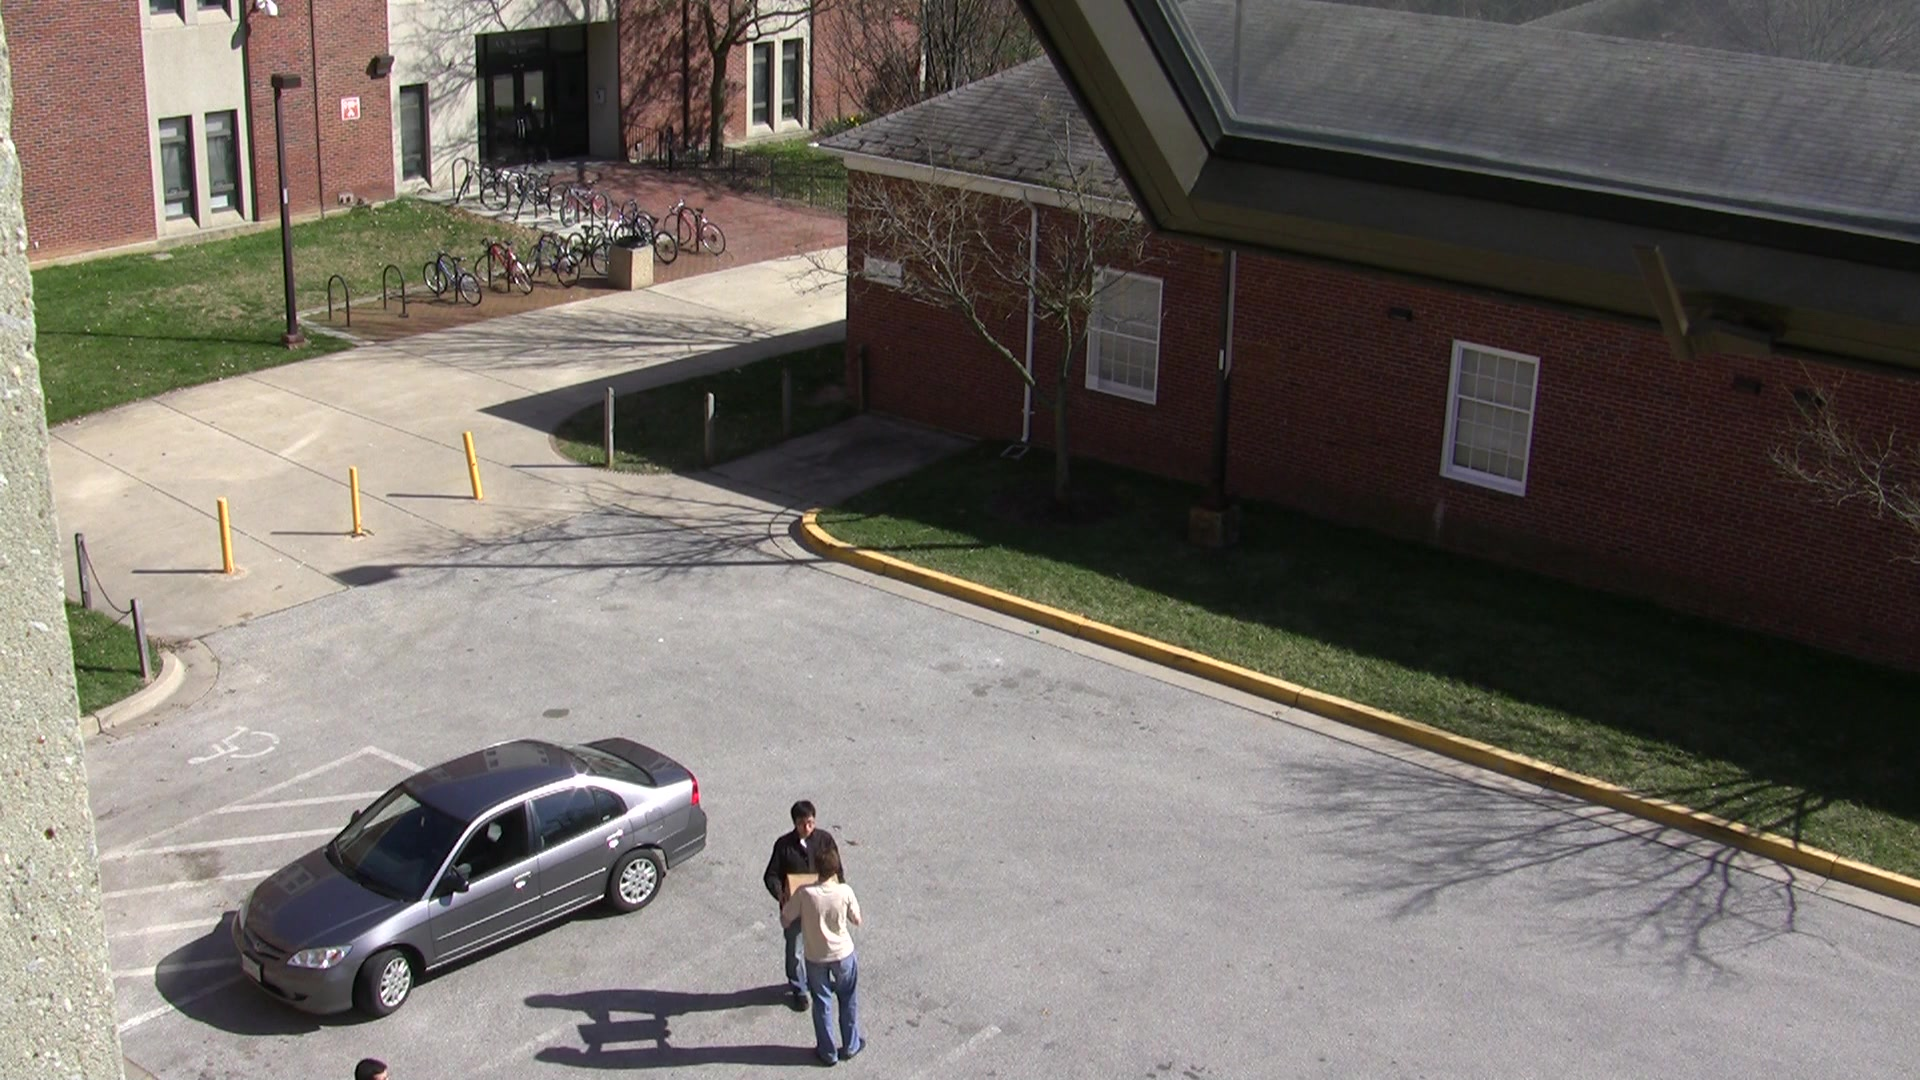person: (771, 849, 892, 1080), (758, 786, 852, 1028)
